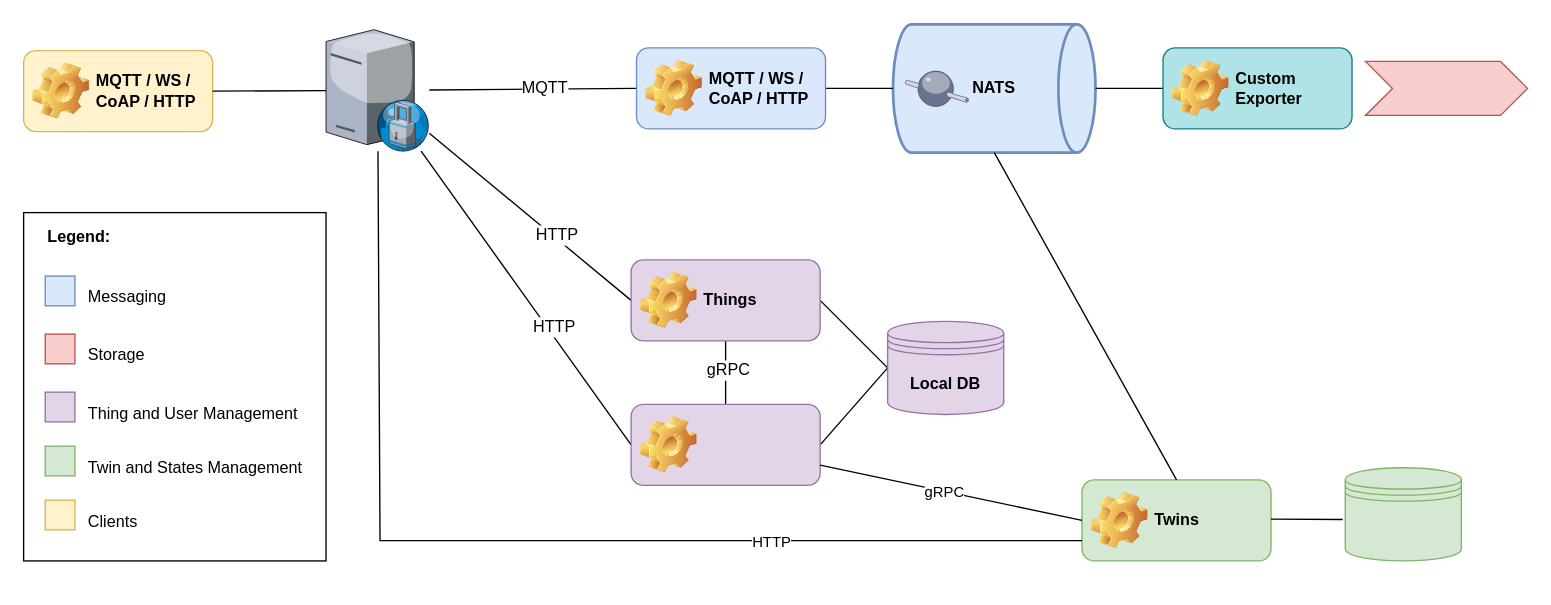
This 1551x605 diagram has some shape labels left out. Here are the shapes that lost their labels. From the top down, the centre of each, then its label:
At pixel 377 90: "Proxy".
At pixel 1446 87: "Data Export".
At pixel 725 444: "Users".
At pixel 1402 513: "MongoDB".
